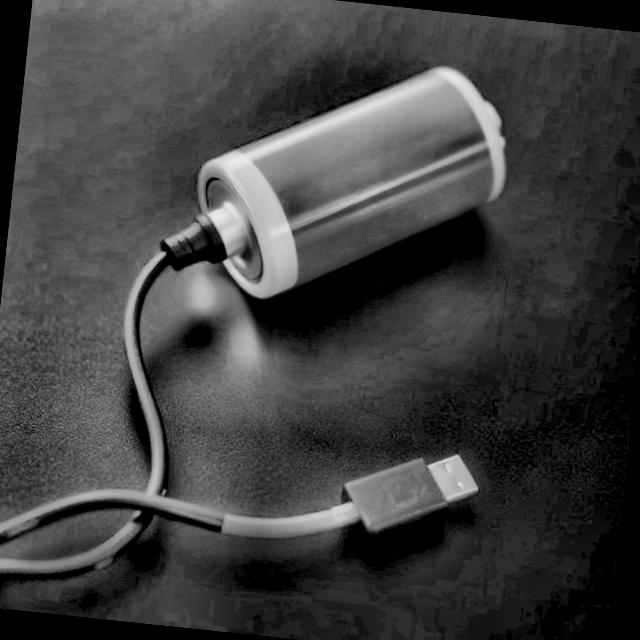Battery: (178, 34, 520, 318)
Cable: (0, 250, 496, 624)
